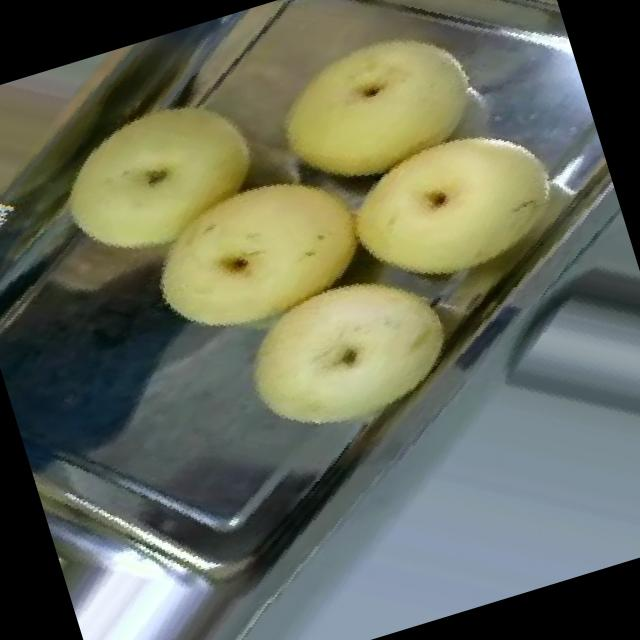Fruit: (295, 68, 633, 346), (113, 110, 410, 372), (210, 0, 529, 241), (210, 228, 488, 474), (25, 49, 302, 294)
